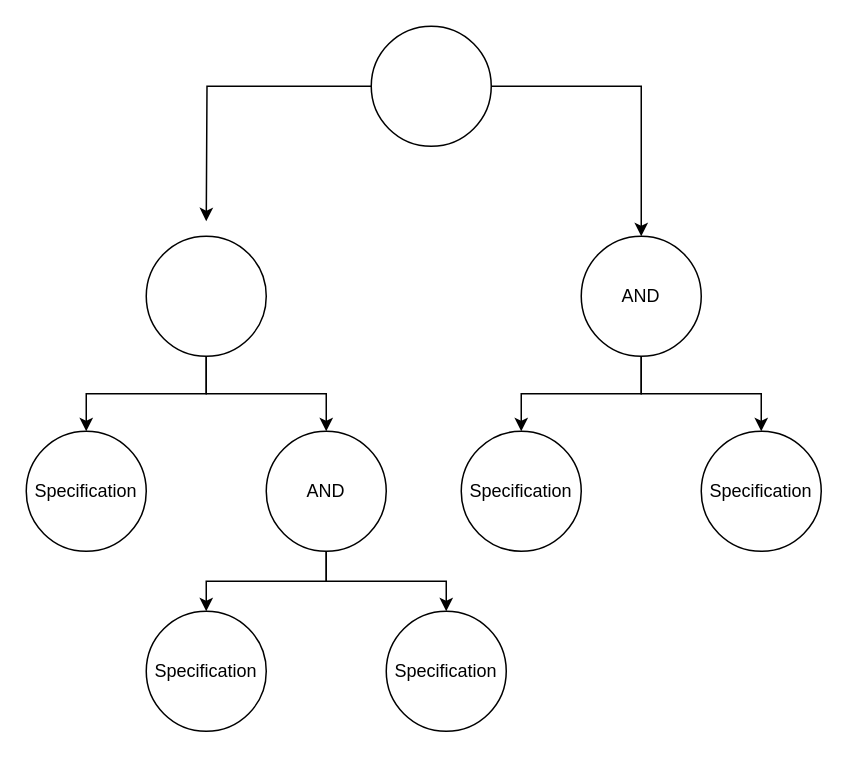
This 848x758 diagram has some shape labels left out. The centre of each missing label's shape, as x and y in pixels:
OR: point 205,295
ROOT AND: point 430,85
